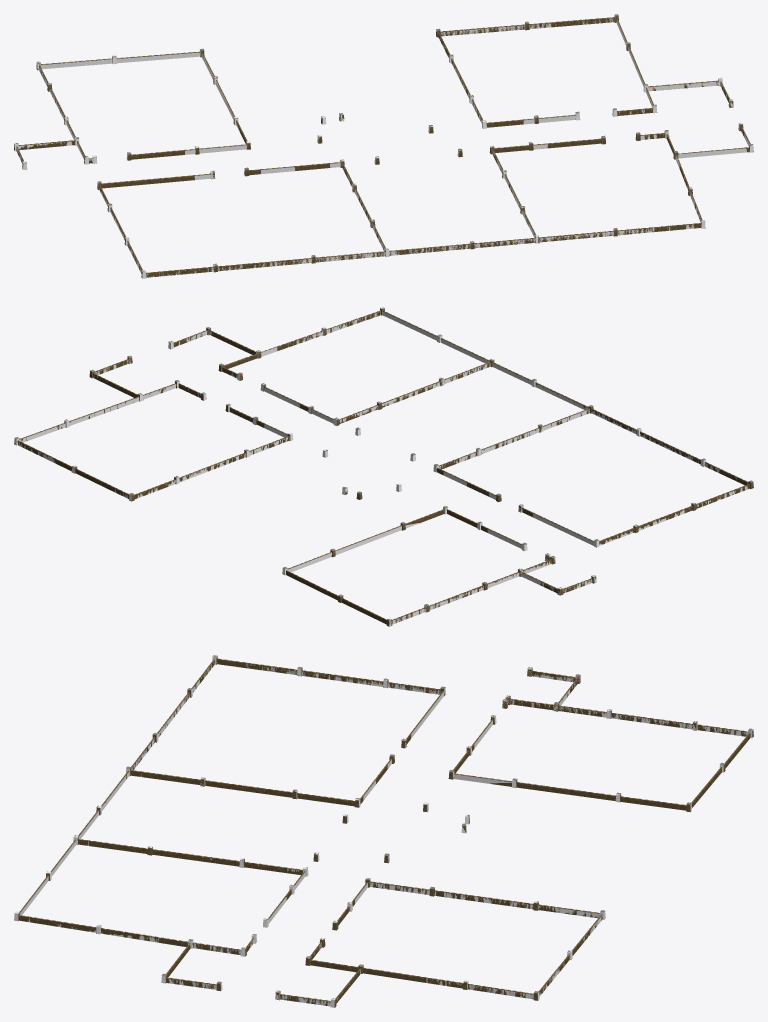
File: objects_un_t03fence01.gltf
3 views of the same model, one above another, from view 1: azimuth 30°, elevation 25°; view 2: azimuth 150°, elevation 25°; view 3: azimuth 270°, elevation 25° (orthographic). The views are drawn at different scales.
Parts seen in each view (by area): view 1: um_objects_un_t03fence01_model_lod0Shape:objects_un_t03fence (×2); view 2: um_objects_un_t03fence01_model_lod0Shape:objects_un_t03fence (×2); view 3: um_objects_un_t03fence01_model_lod0Shape:objects_un_t03fence (×2).
Part boxes in pixels (bbox=[...]): um_objects_un_t03fence01_model_lod0Shape:objects_un_t03fence (×2): bbox=[14, 14, 753, 278]; um_objects_un_t03fence01_model_lod0Shape:objects_un_t03fence (×2): bbox=[14, 307, 753, 626]; um_objects_un_t03fence01_model_lod0Shape:objects_un_t03fence (×2): bbox=[14, 655, 753, 1007].
Size of what is drawn, in the model's own units: 169 by 1.7 by 153.
Materials: 2 (1 with a texture image).
